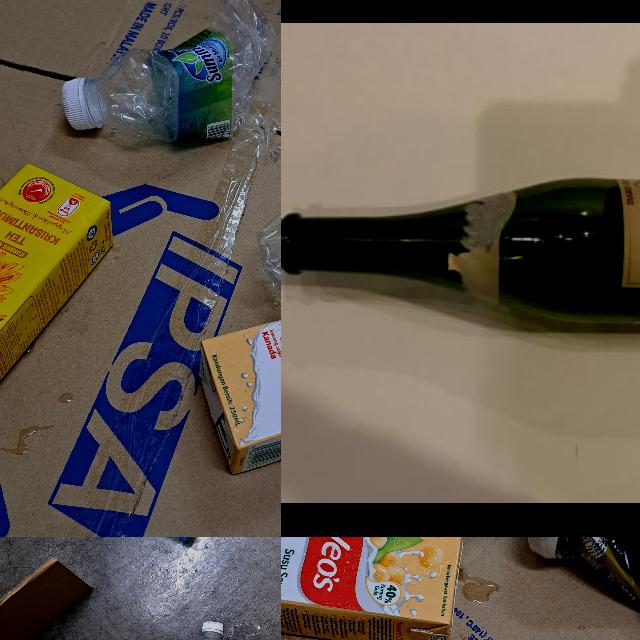caixinha: (0, 164, 113, 432), (281, 537, 460, 640), (197, 278, 281, 474)
garrafa de vidro: (281, 177, 640, 332)
garrafa plástica: (87, 0, 279, 140)
lata: (527, 537, 640, 630)
papelão: (0, 0, 281, 537), (281, 537, 640, 640), (0, 537, 94, 640)
tampa plástica: (62, 79, 94, 131), (202, 622, 224, 632)
